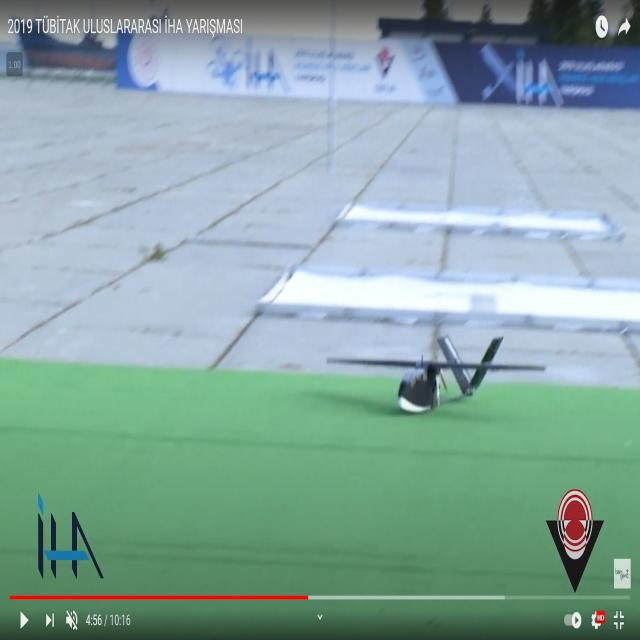iha: (324, 364, 549, 383)
